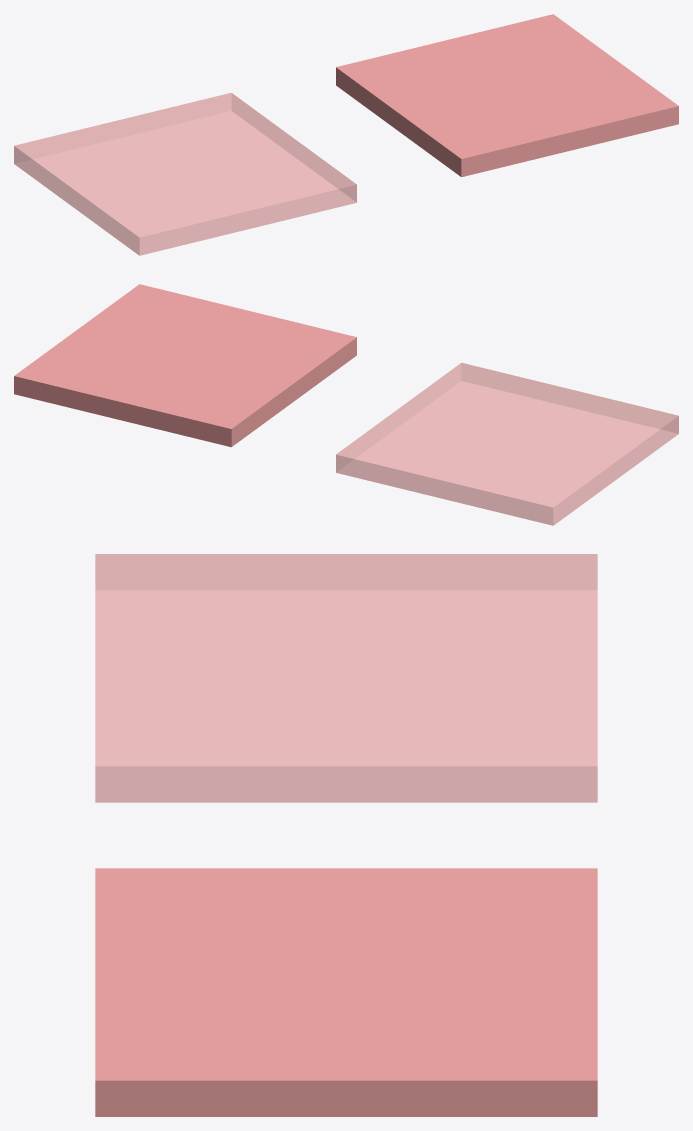
The model's file is treno_step3.glb.
3 renders of one model, top to bottom at view 1: azimuth 30°, elevation 25°; view 2: azimuth 150°, elevation 25°; view 3: azimuth 270°, elevation 25°, orthographic. The views are drawn at different scales.
Visible parts, largest first — view 1: quadrato_grande, quadrato_grande.001; view 2: quadrato_grande, quadrato_grande.001; view 3: quadrato_grande, quadrato_grande.001.
Boxes of the visible parts, box(x1,y1,x2,y2) form: quadrato_grande: box(14, 92, 356, 255); quadrato_grande.001: box(336, 14, 678, 177); quadrato_grande: box(336, 362, 678, 525); quadrato_grande.001: box(14, 284, 356, 447); quadrato_grande: box(95, 554, 597, 802); quadrato_grande.001: box(95, 868, 597, 1116).
Bounding box in the file's own units: 2.48 × 0.08 × 1.
